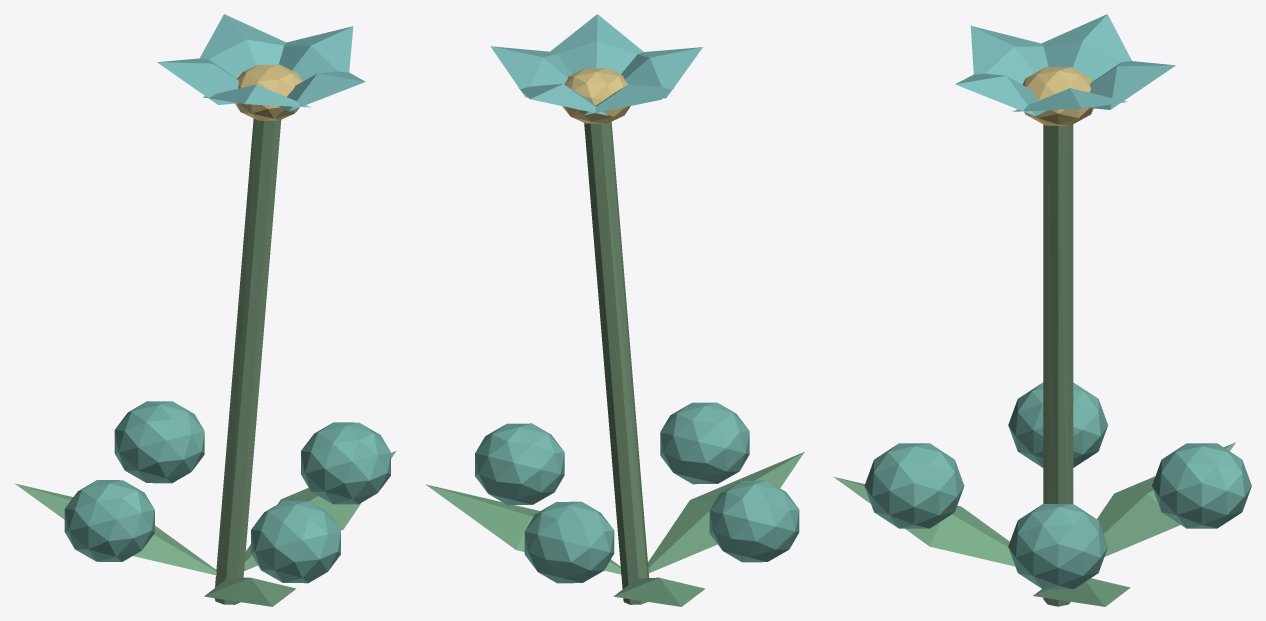
File: rare_turquoise_bloom.glb
3 renders of one model, left to right at view 1: azimuth 30°, elevation 25°; view 2: azimuth 150°, elevation 25°; view 3: azimuth 270°, elevation 25°, orthographic. The views are drawn at different scales.
Visible parts, largest first — view 1: bloom_stem, bud_1, bud_0, bud_2, bud_3, bloom_petal_1, bloom_petal_0, bloom_leaf_1, bloom_center, bloom_petal_2, bloom_leaf_2, bloom_petal_4 (+2 smaller); view 2: bloom_stem, bud_1, bud_2, bud_3, bud_0, bloom_leaf_2, bloom_petal_4, bloom_leaf_0, bloom_petal_0, bloom_petal_3, bloom_center, bloom_leaf_1 (+2 smaller); view 3: bloom_stem, bud_3, bud_0, bud_1, bud_2, bloom_leaf_1, bloom_petal_2, bloom_leaf_2, bloom_petal_3, bloom_center, bloom_petal_1, bloom_petal_4 (+2 smaller).
Boxes of the visible parts, x1,y1,x2,y2 form: bloom_stem: (214,118,281,604); bud_1: (114,401,204,483); bud_0: (301,422,390,504); bud_2: (64,480,154,561); bud_3: (251,501,340,583); bloom_petal_1: (200,14,286,78); bloom_petal_0: (279,26,353,81); bloom_leaf_1: (15,483,216,575); bloom_center: (235,64,302,120); bloom_petal_2: (157,58,238,104); bloom_leaf_2: (204,577,296,606); bloom_petal_4: (279,71,365,111); bloom_stem: (584,122,649,604); bud_1: (524,501,614,583); bud_2: (709,480,799,562); bud_3: (660,402,749,484); bud_0: (475,423,564,504); bloom_leaf_2: (648,452,804,573); bloom_petal_4: (550,14,643,74); bloom_leaf_0: (425,484,621,574); bloom_petal_0: (490,46,572,97); bloom_petal_3: (621,47,702,98); bloom_center: (562,68,630,123); bloom_leaf_1: (613,577,704,606); bloom_stem: (1043,124,1073,606); bud_3: (864,443,964,528); bud_0: (1008,504,1107,589); bud_1: (1152,443,1251,528); bud_2: (1008,382,1107,467); bloom_leaf_1: (1097,442,1235,556); bloom_petal_2: (1041,14,1131,81); bloom_leaf_2: (834,477,1015,566); bloom_petal_3: (970,26,1048,84); bloom_center: (1022,67,1093,125); bloom_petal_1: (1088,61,1175,109); bloom_petal_4: (955,73,1046,116).
Size of the model in its own units: 0.6824 by 0.9921 by 0.6703.
